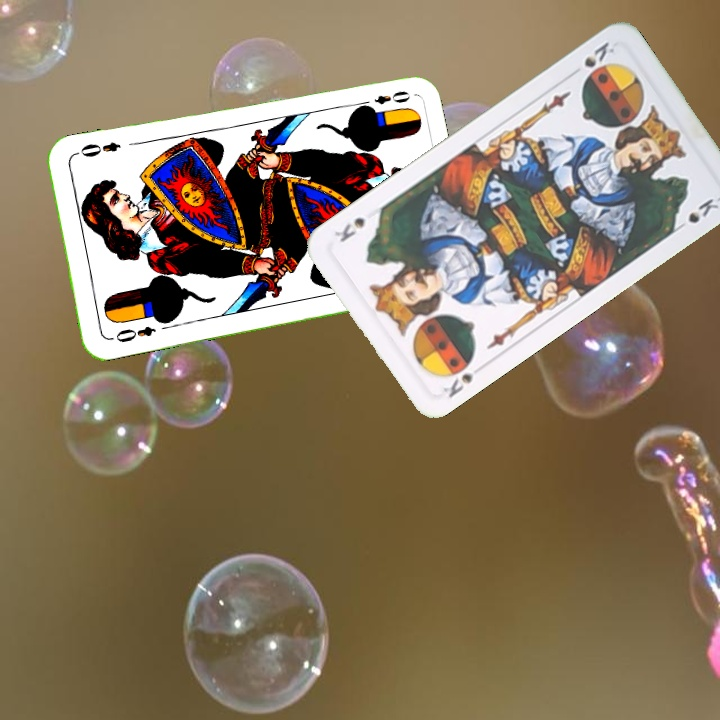EO: (111, 322, 158, 346), (369, 86, 413, 107)
SK: (438, 353, 478, 401), (580, 37, 617, 71)
